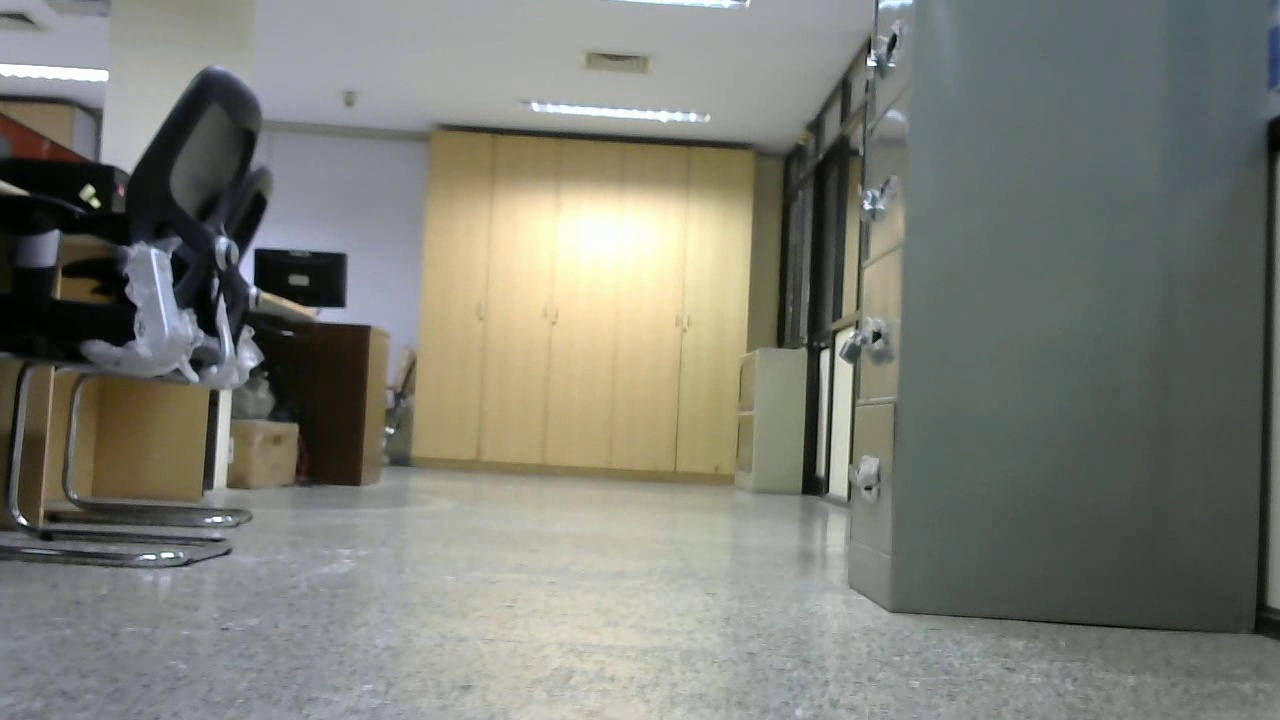chair: (1, 64, 254, 580)
